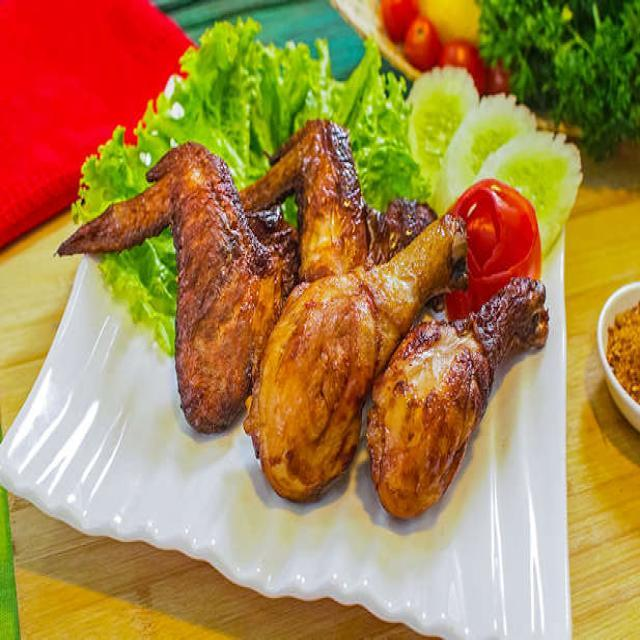ayam_goreng: (52, 126, 542, 536)
